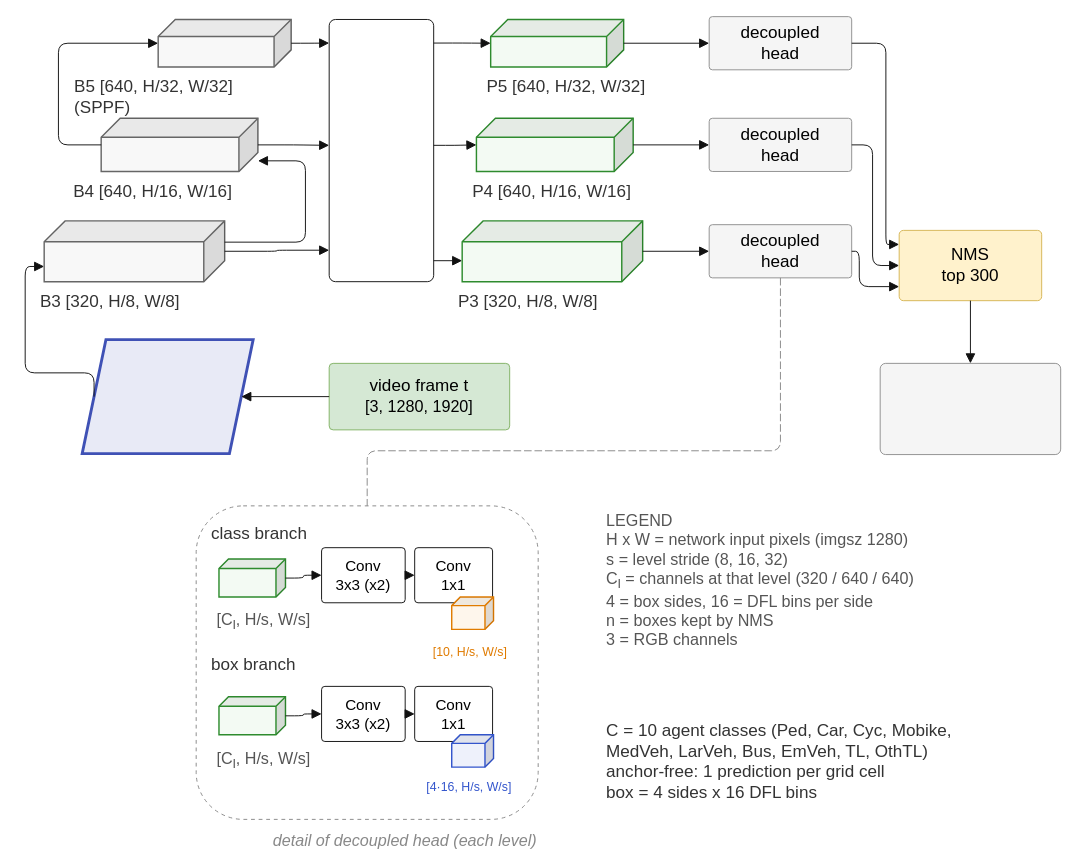
Some shapes in this 1077 by 867 pixel diagram are drawn without their labels. Each missing label, with the centre of its shape:
boxes [n,4], conf, agent class; up to 300 per frame: point 970,408
CSPDarknet backbone: point 167,396
PAN-FPN neck (C2f fusion, top-down + bottom-up): point 381,150
